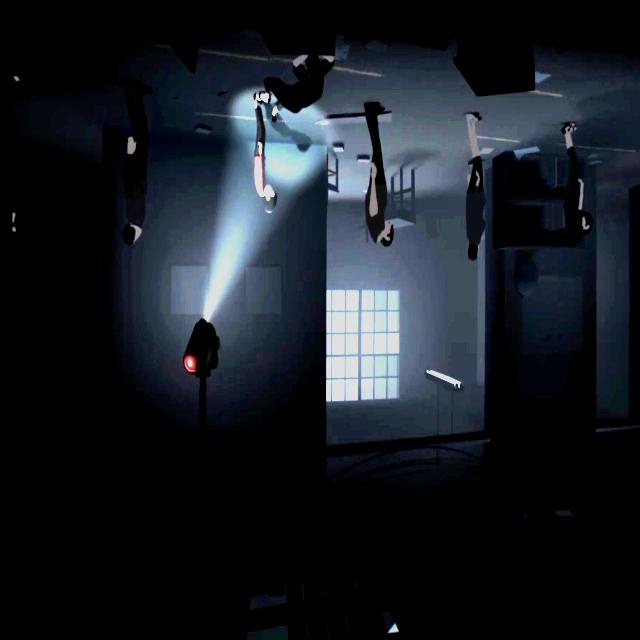boy: (255, 91, 278, 214)
zombie: (257, 52, 335, 116), (124, 80, 150, 247), (365, 107, 395, 246), (561, 124, 591, 238), (466, 112, 486, 260), (10, 72, 26, 235)
